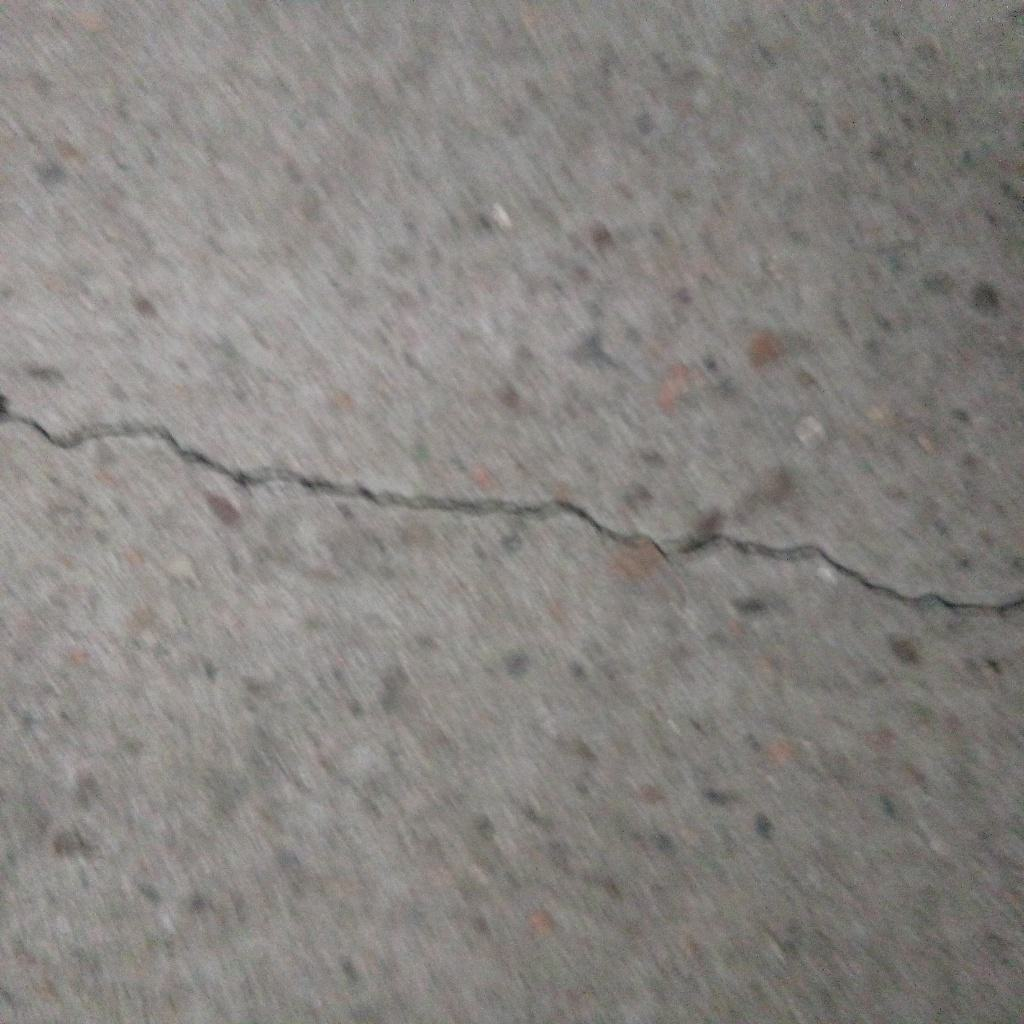Crack: (1, 406, 1024, 616)
